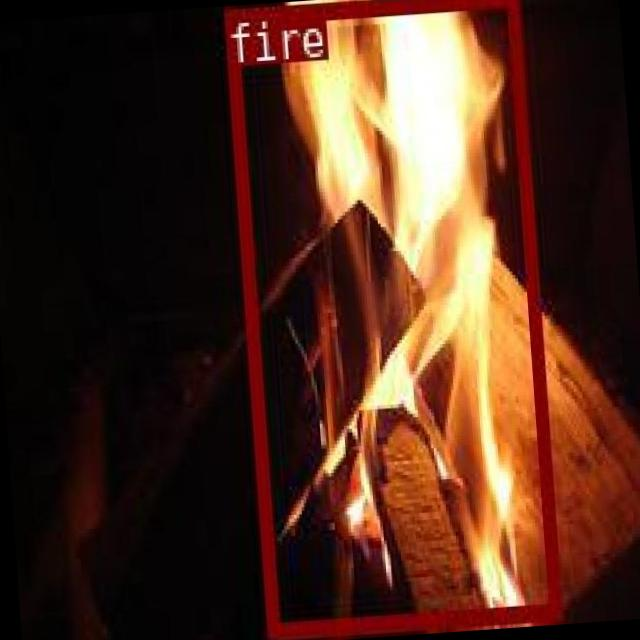fire: (222, 0, 558, 635)
